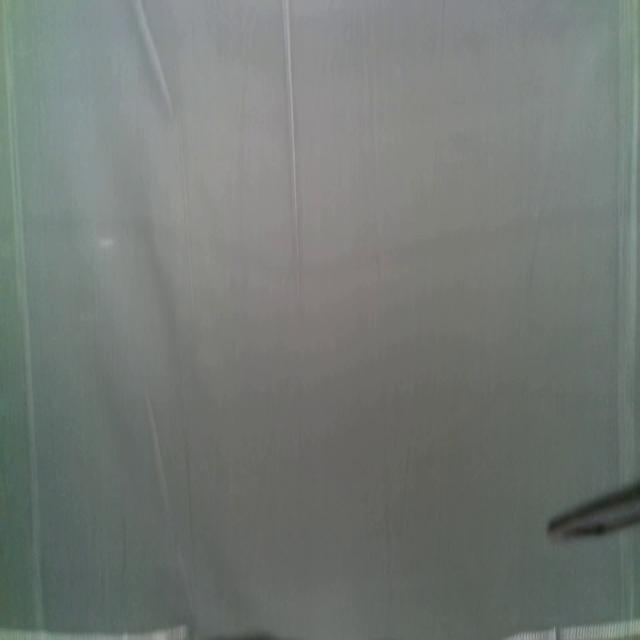color bleeding: (0, 192, 639, 284)
crease: (1, 2, 44, 629), (614, 3, 640, 480), (146, 389, 193, 612), (281, 2, 302, 288), (133, 0, 176, 124), (178, 122, 195, 323)
